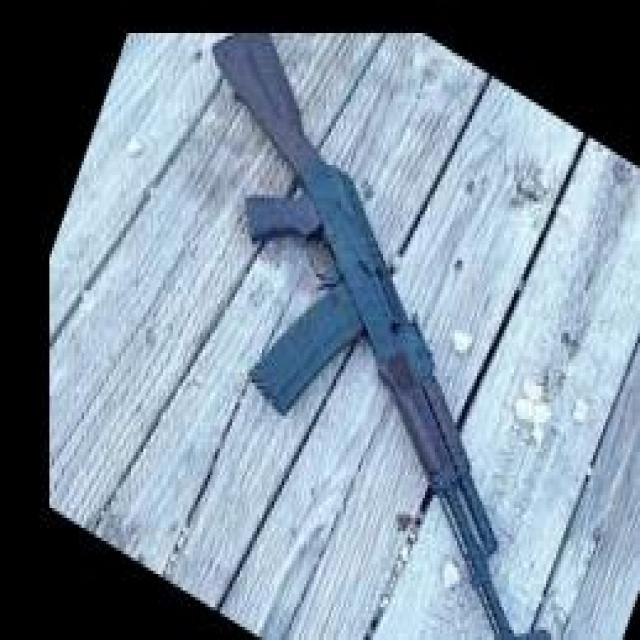weapon: (213, 32, 552, 640)
